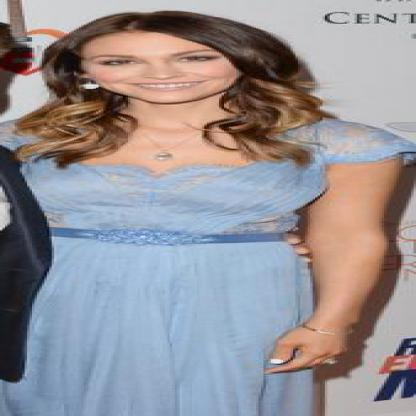long-hair: (13, 105, 350, 151)
